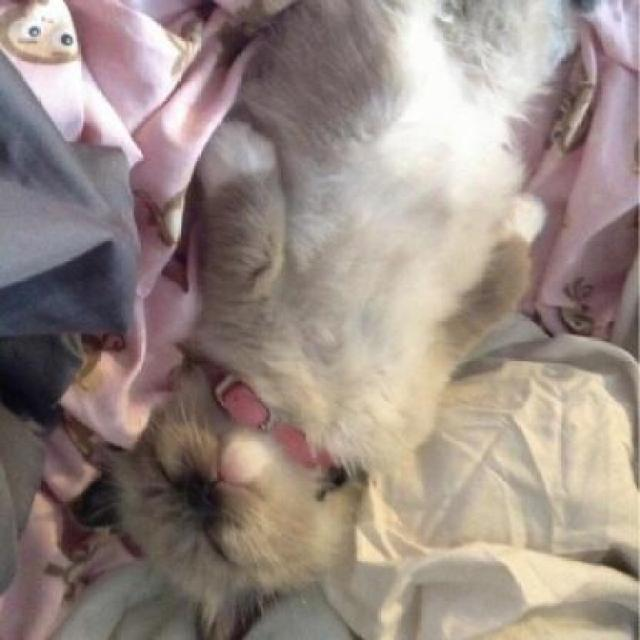cat: (68, 0, 580, 640)
